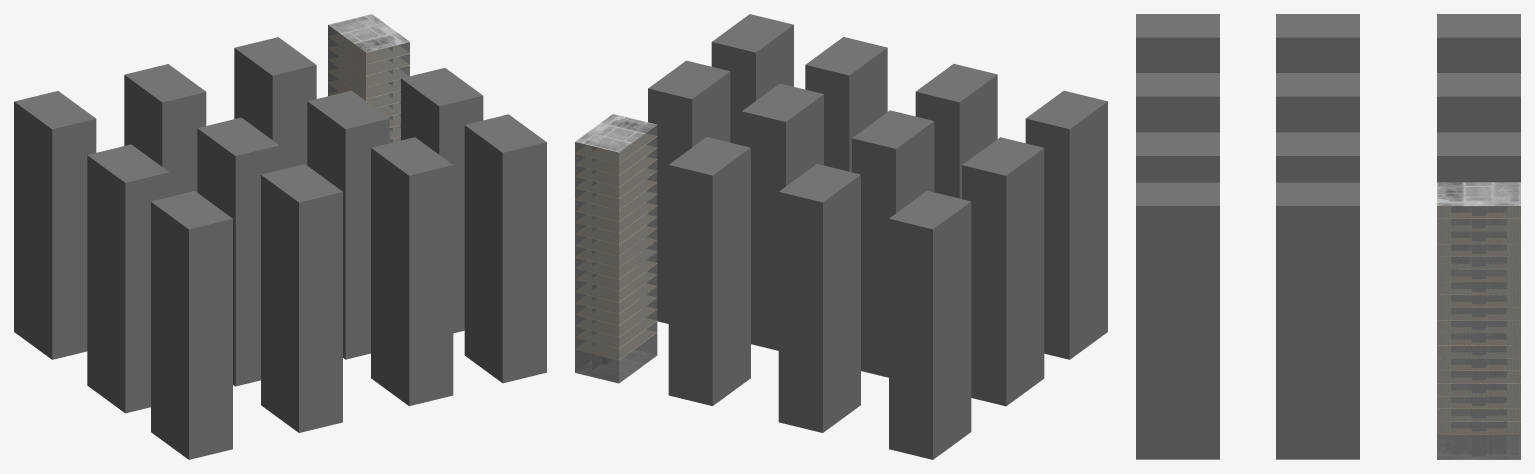
Rendered from Doctor Office.glb.
The picture shows the model from 3 angles, left to right: view 1: azimuth 30°, elevation 25°; view 2: azimuth 150°, elevation 25°; view 3: azimuth 270°, elevation 25°; orthographic projection. The views are drawn at different scales.
Visible parts, largest first — view 1: BuildingGlass.002, BuildingGlass.003, BuildingGlass.008, BuildingGlass.009, BuildingGlass.011, BuildingGlass.010, BuildingGlass.007, BuildingGlass.004, BuildingGlass.006, BuildingGlass.005, BuildingGlass.001, BuildingGlass (+5 smaller); view 2: BuildingGlass.011, BuildingGlass.005, BuildingGlass.006, BuildingGlass, BuildingGlass.010, BuildingGlass.009, BuildingGlass.007, BuildingGlass.004, BuildingGlass.001, BuildingGlass.008, BuildingGlass.003, BuildingGlass.002 (+20 smaller); view 3: BuildingGlass.001, BuildingGlass.002, BuildingGlass, Cube.020, BuildingGlass.006, BuildingGlass.007, BuildingGlass.008, BuildingGlass.009, BuildingGlass.010, BuildingGlass.011, BuildingGlass.003, BuildingGlass.004 (+23 smaller).
Boxes of the visible parts, x1,y1,x2,y2 form: BuildingGlass.002: (464, 114, 546, 383); BuildingGlass.003: (371, 137, 453, 406); BuildingGlass.008: (261, 164, 342, 432); BuildingGlass.009: (151, 191, 232, 459); BuildingGlass.011: (14, 91, 96, 359); BuildingGlass.010: (87, 144, 169, 413); BuildingGlass.007: (197, 117, 279, 386); BuildingGlass.004: (307, 90, 389, 359); BuildingGlass.006: (124, 64, 206, 196); BuildingGlass.005: (234, 37, 316, 169); BuildingGlass.001: (401, 68, 483, 333); BuildingGlass: (328, 25, 409, 142); BuildingGlass.011: (889, 190, 971, 459); BuildingGlass.005: (668, 137, 750, 405); BuildingGlass.006: (778, 164, 860, 432); BuildingGlass: (575, 125, 657, 382); BuildingGlass.010: (962, 137, 1044, 406); BuildingGlass.009: (1025, 90, 1107, 359); BuildingGlass.007: (852, 110, 934, 377); BuildingGlass.004: (741, 83, 823, 350); BuildingGlass.001: (648, 60, 730, 323); BuildingGlass.008: (915, 64, 997, 198); BuildingGlass.003: (805, 37, 887, 172); BuildingGlass.002: (711, 14, 793, 145); BuildingGlass.001: (1276, 182, 1359, 459); BuildingGlass.002: (1136, 182, 1219, 459); BuildingGlass: (1437, 206, 1520, 459); Cube.020: (1451, 207, 1506, 452); BuildingGlass.006: (1437, 73, 1520, 132); BuildingGlass.007: (1276, 73, 1359, 132); BuildingGlass.008: (1136, 73, 1219, 132); BuildingGlass.009: (1136, 14, 1219, 72); BuildingGlass.010: (1276, 14, 1359, 72); BuildingGlass.011: (1437, 14, 1520, 72); BuildingGlass.003: (1136, 132, 1219, 182); BuildingGlass.004: (1276, 132, 1359, 182).
Size of what is drawn, in the model's own units: 325 by 200 by 275.
5 materials, 3 textured.
